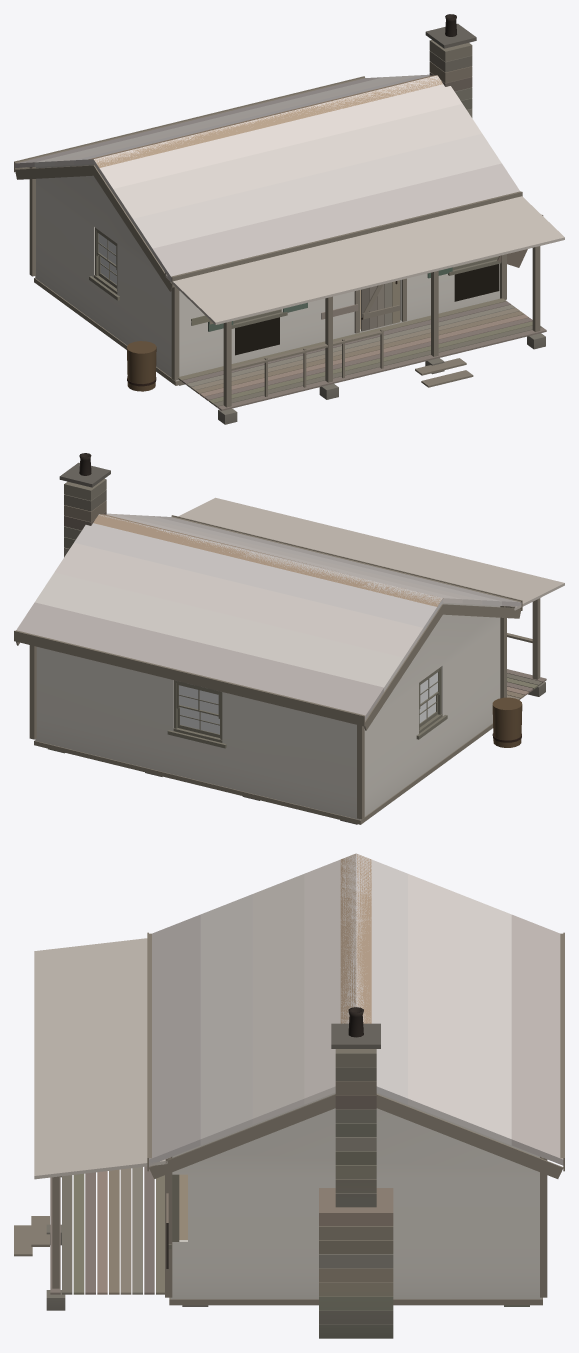
File: cabin_abandoned_a.glb
3 views of the same model, one above another, from view 1: azimuth 30°, elevation 25°; view 2: azimuth 150°, elevation 25°; view 3: azimuth 270°, elevation 25° (orthographic). The views are drawn at different scales.
Visible parts, largest first — view 1: body, door, windows; view 2: body, windows; view 3: body.
Boxes of the visible parts, x1,y1,x2,y2 form: body: (14, 14, 564, 424); door: (361, 280, 400, 331); windows: (98, 233, 116, 284); body: (14, 453, 564, 824); windows: (179, 672, 437, 734); body: (14, 853, 564, 1338).
Size of what is drawn, in the model's own units: 9.85 by 5.62 by 8.9.
